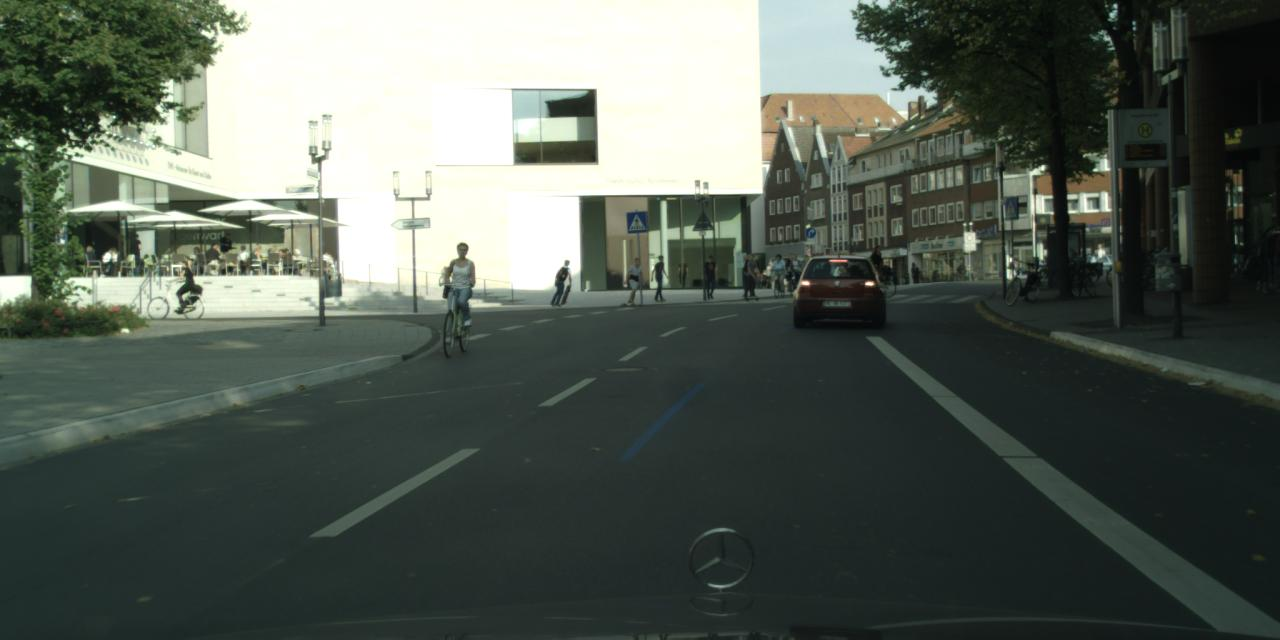ped: (442, 241, 479, 331), (1256, 226, 1279, 290), (172, 260, 192, 312), (624, 257, 642, 304), (650, 254, 668, 300), (552, 258, 570, 304), (868, 244, 886, 290), (701, 254, 719, 298), (741, 253, 758, 296), (126, 233, 143, 274), (218, 232, 234, 274), (770, 254, 786, 290), (787, 253, 801, 288), (782, 253, 796, 287), (738, 254, 752, 288), (676, 258, 688, 286), (1094, 243, 1104, 270), (910, 263, 919, 283)
